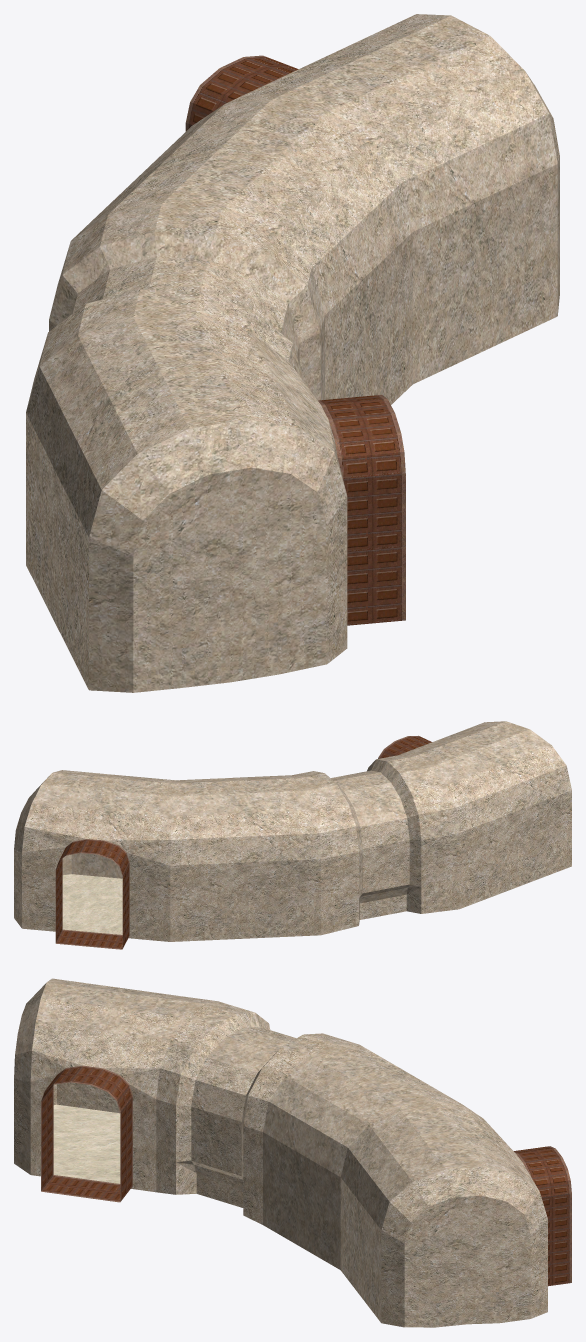
Rendered from thm_tato_watto_junkshop_r3_mesh_r3.fbx.
The picture shows the model from 3 angles, top to bottom: view 1: azimuth 30°, elevation 25°; view 2: azimuth 150°, elevation 25°; view 3: azimuth 270°, elevation 25°; orthographic projection. The views are drawn at different scales.
Visible parts, largest first — view 1: mesh_node; view 2: mesh_node; view 3: mesh_node.
Boxes of the visible parts, x1,y1,x2,y2 form: mesh_node: (26,14,559,692); mesh_node: (14,721,571,949); mesh_node: (14,978,571,1327).
Bounding box in the file's own units: 12.78 × 3.96 × 13.39.
